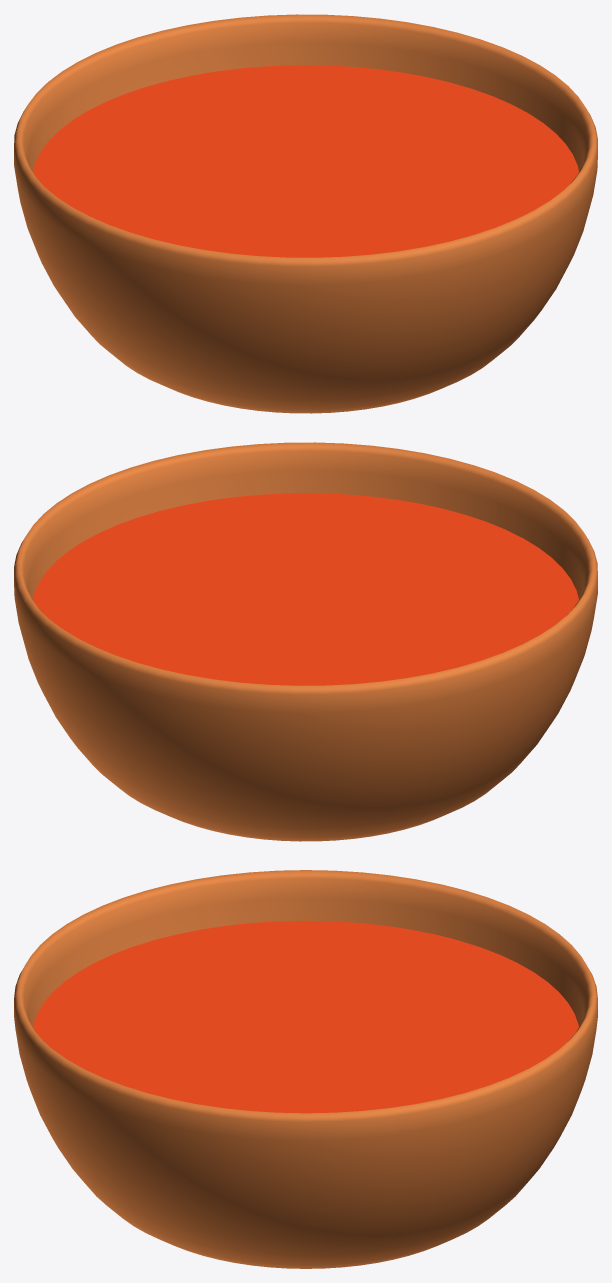
Rendered from RedSlip.fbx.
3 views of the same model, one above another, from view 1: azimuth 30°, elevation 25°; view 2: azimuth 150°, elevation 25°; view 3: azimuth 270°, elevation 25° (orthographic).
Parts seen in each view (by area): view 1: Bowl, Water; view 2: Bowl, Water; view 3: Bowl, Water.
Boxes of the visible parts, x1,y1,x2,y2 form: Bowl: (14, 14, 597, 413); Water: (33, 65, 578, 257); Bowl: (14, 442, 597, 841); Water: (33, 493, 578, 685); Bowl: (14, 870, 597, 1268); Water: (33, 920, 578, 1113).
Bounding box in the file's own units: 181 × 71.75 × 181.
